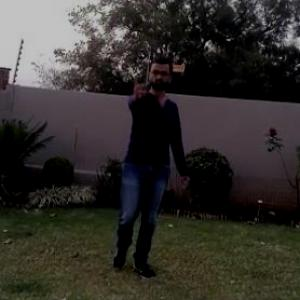takeoff-hand: (126, 69, 153, 102)
